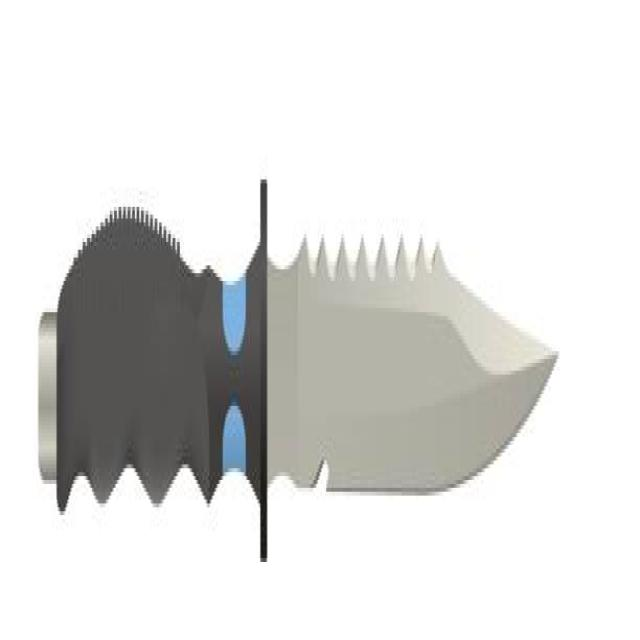knife: (28, 154, 558, 576)
